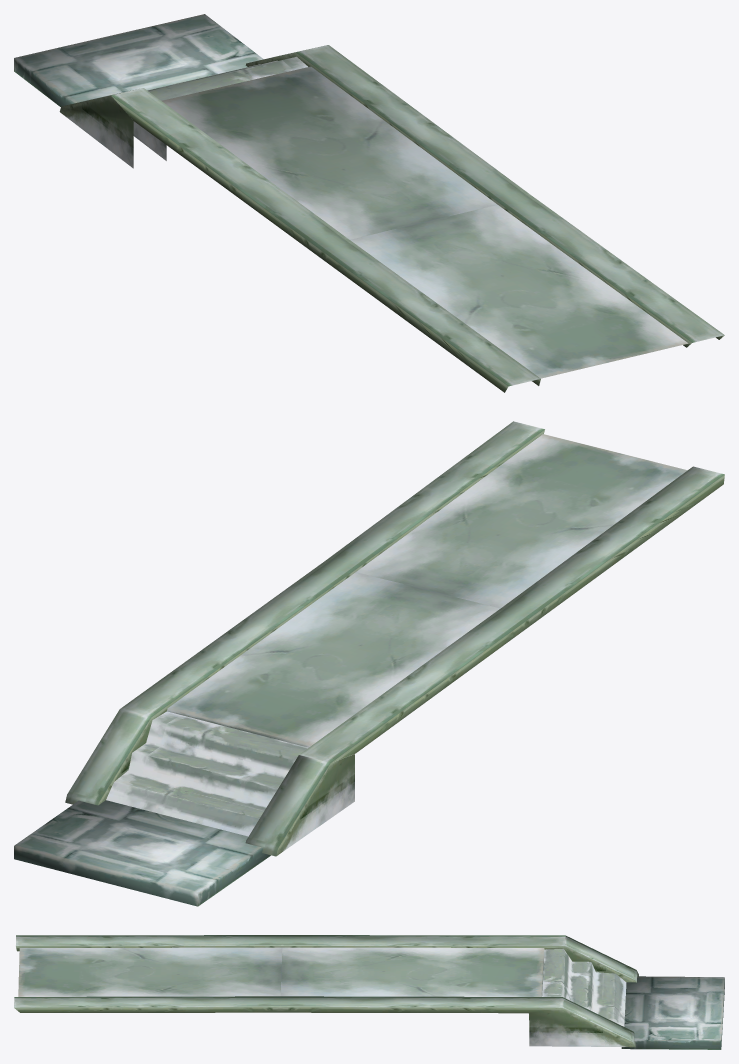
The model's file is SM_House_brick_02.fbx.
3 renders of one model, top to bottom at view 1: azimuth 30°, elevation 25°; view 2: azimuth 150°, elevation 25°; view 3: azimuth 270°, elevation 25°, orthographic. The views are drawn at different scales.
Visible parts, largest first — view 1: SM_House_brick_02; view 2: SM_House_brick_02; view 3: SM_House_brick_02.
Part boxes in pixels (x1=…): SM_House_brick_02: x1=14, y1=14, x2=724, y2=392; SM_House_brick_02: x1=14, y1=421, x2=724, y2=906; SM_House_brick_02: x1=14, y1=935, x2=724, y2=1049.
Size of the model in its own units: 1.33 by 0.3765 by 5.41.
